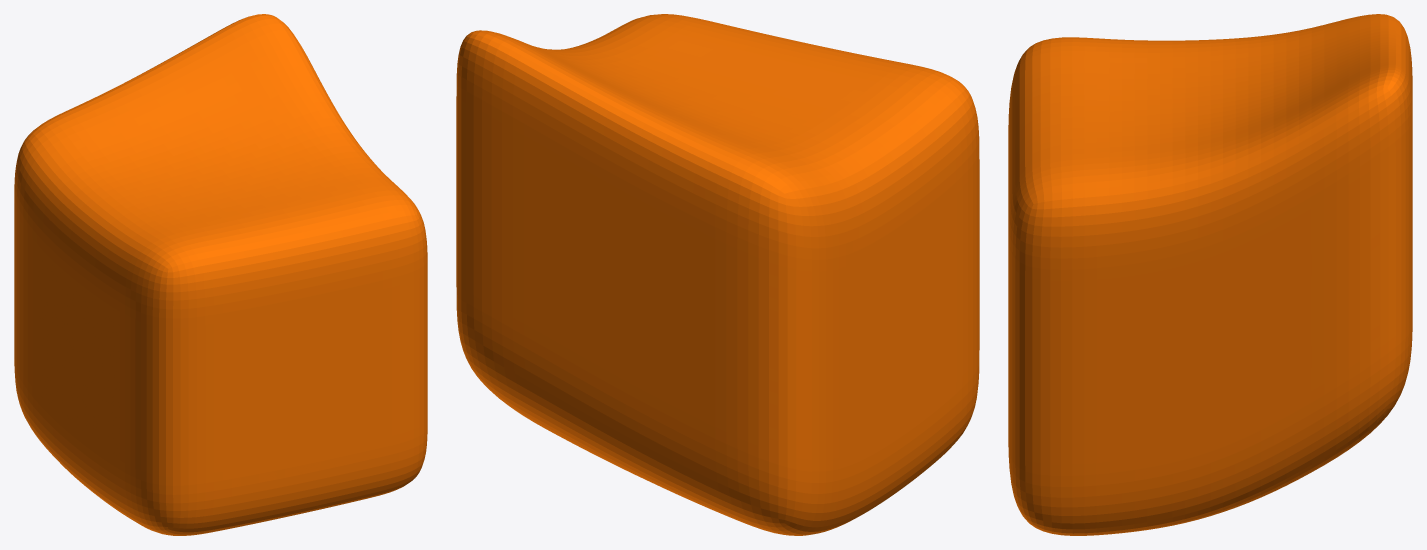
3 views of the same model, side by side, from view 1: azimuth 30°, elevation 25°; view 2: azimuth 150°, elevation 25°; view 3: azimuth 270°, elevation 25° (orthographic). The views are drawn at different scales.
Visible parts, largest first — view 1: smooth_1_base.041; view 2: smooth_1_base.041; view 3: smooth_1_base.041.
Boxes of the visible parts, bbox=[...] form: smooth_1_base.041: bbox=[14, 14, 427, 535]; smooth_1_base.041: bbox=[456, 14, 979, 535]; smooth_1_base.041: bbox=[1008, 14, 1412, 535].
Bounding box in the file's own units: 60 × 75.81 × 60.
